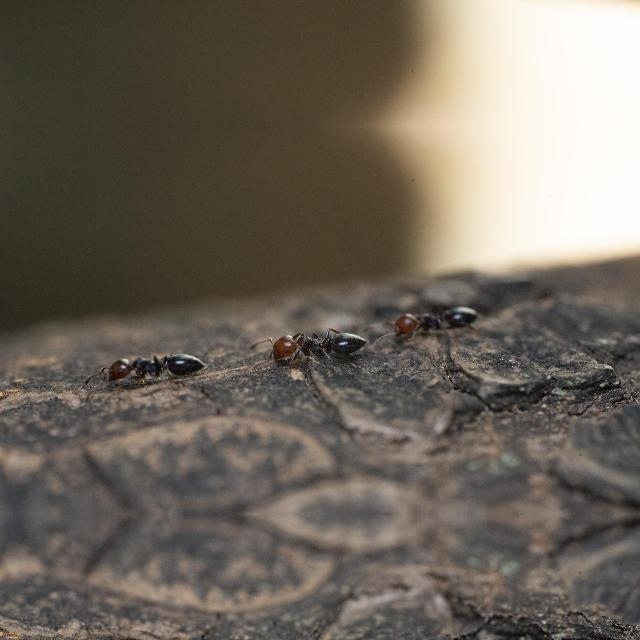Crematogaster: (261, 316, 381, 370), (96, 345, 214, 385), (384, 294, 484, 338)
